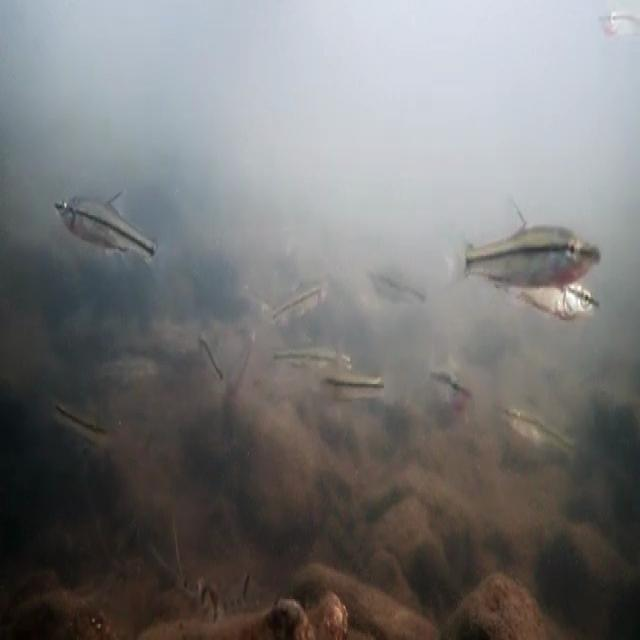Cakil Baligi: (440, 191, 606, 295), (47, 183, 162, 268)
